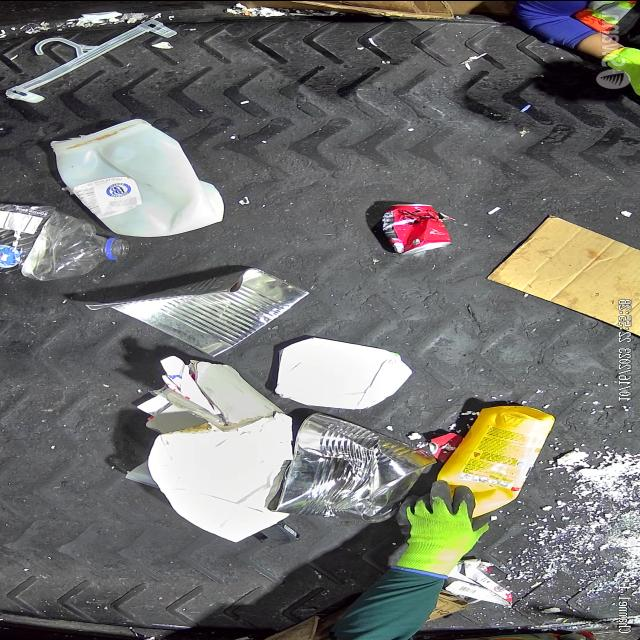can: (266, 411, 438, 524), (382, 202, 454, 255)
milk_jug: (49, 118, 224, 237)
non_white_jug: (446, 405, 598, 521)
plastic_bottle: (0, 202, 128, 280)
